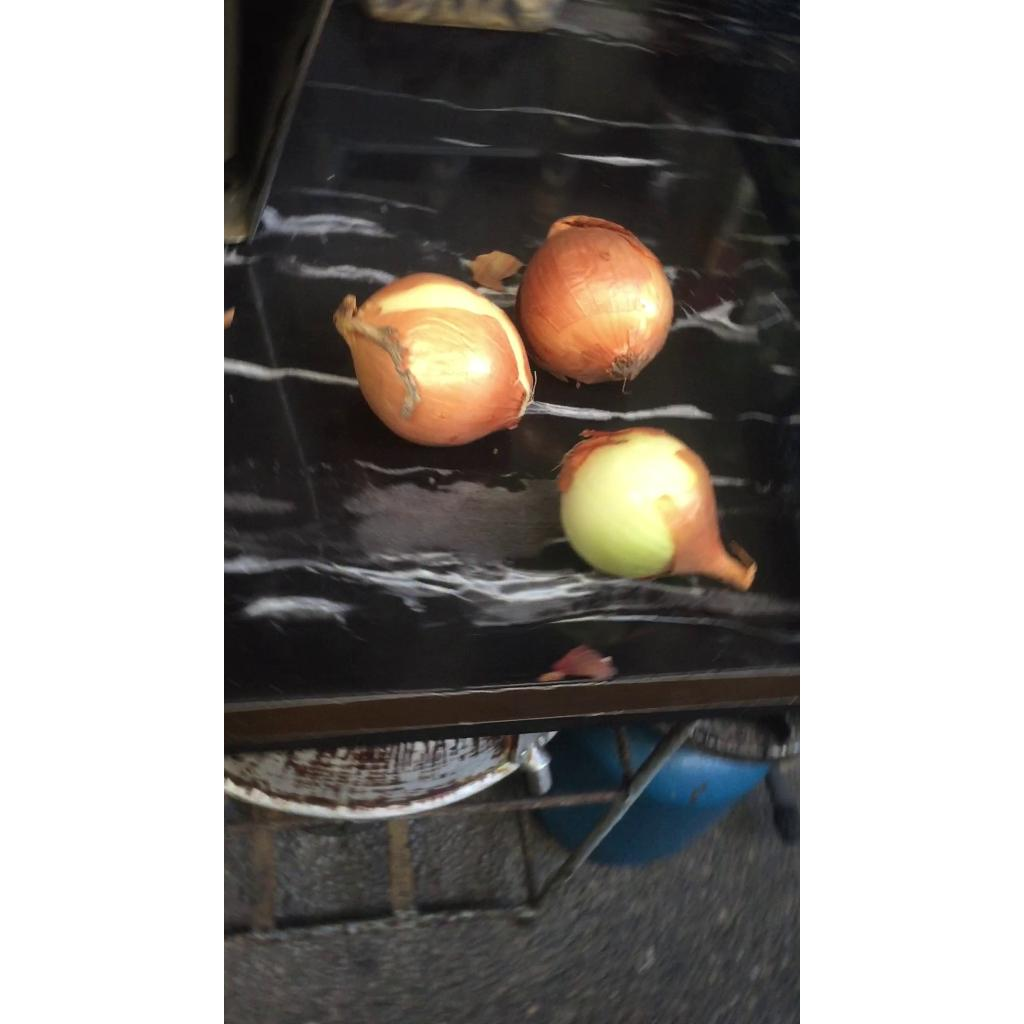Onion: (332, 273, 532, 446), (557, 427, 757, 591), (516, 214, 674, 383)
